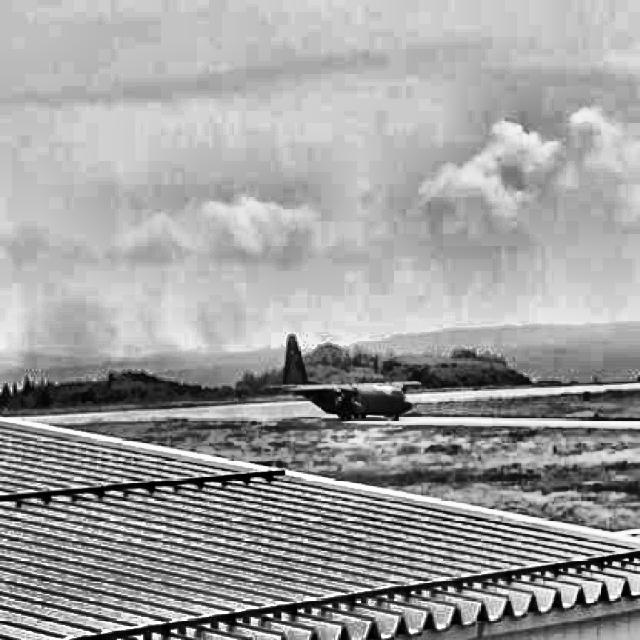C130: (266, 334, 422, 420)
